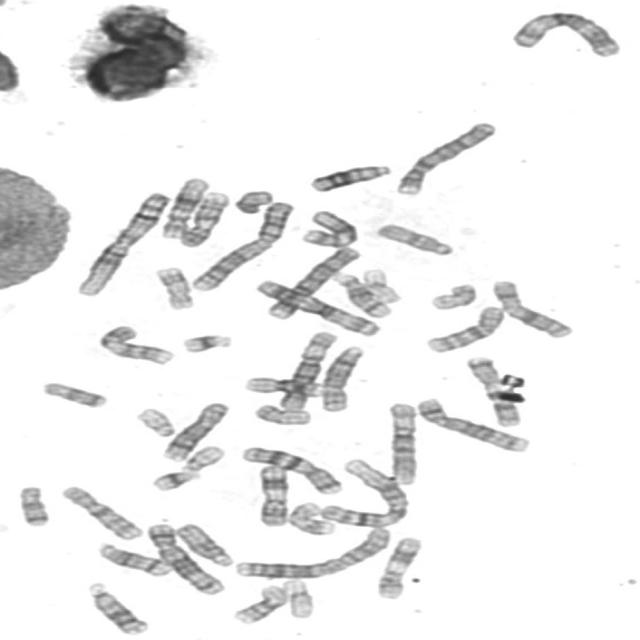A1: (71, 188, 174, 298), (314, 456, 414, 528)
A2: (187, 198, 298, 292), (231, 524, 395, 581)
A3: (250, 276, 382, 338), (506, 7, 626, 59)
B4: (390, 118, 500, 198), (261, 243, 365, 321)
B5: (411, 394, 532, 454), (142, 520, 228, 597)
C10: (56, 482, 146, 542), (420, 302, 508, 354)
C11: (372, 534, 425, 600), (253, 462, 292, 528)
C12: (157, 174, 212, 239), (297, 207, 361, 249)
C6: (275, 328, 339, 413), (382, 399, 422, 486)
C7: (236, 442, 344, 496), (461, 353, 524, 428)
C8: (158, 399, 232, 463), (315, 342, 368, 413)
C9: (94, 322, 178, 367), (175, 188, 233, 248)
D13: (82, 579, 152, 636), (306, 161, 394, 193)
D14: (329, 269, 395, 319), (92, 539, 174, 578)
D15: (170, 520, 237, 568), (371, 220, 457, 257)
E16: (227, 582, 291, 626), (240, 374, 326, 398)
E17: (151, 263, 196, 311), (284, 499, 339, 536)
E18: (37, 378, 110, 409), (13, 482, 52, 528)
F19: (357, 264, 405, 304), (278, 576, 318, 620)
F20: (426, 280, 479, 311), (249, 401, 313, 426)
G21: (146, 467, 203, 492), (178, 331, 235, 354)
G22: (130, 404, 180, 438), (176, 442, 228, 472)
X: (486, 276, 577, 340)
Y: (230, 187, 276, 214)
